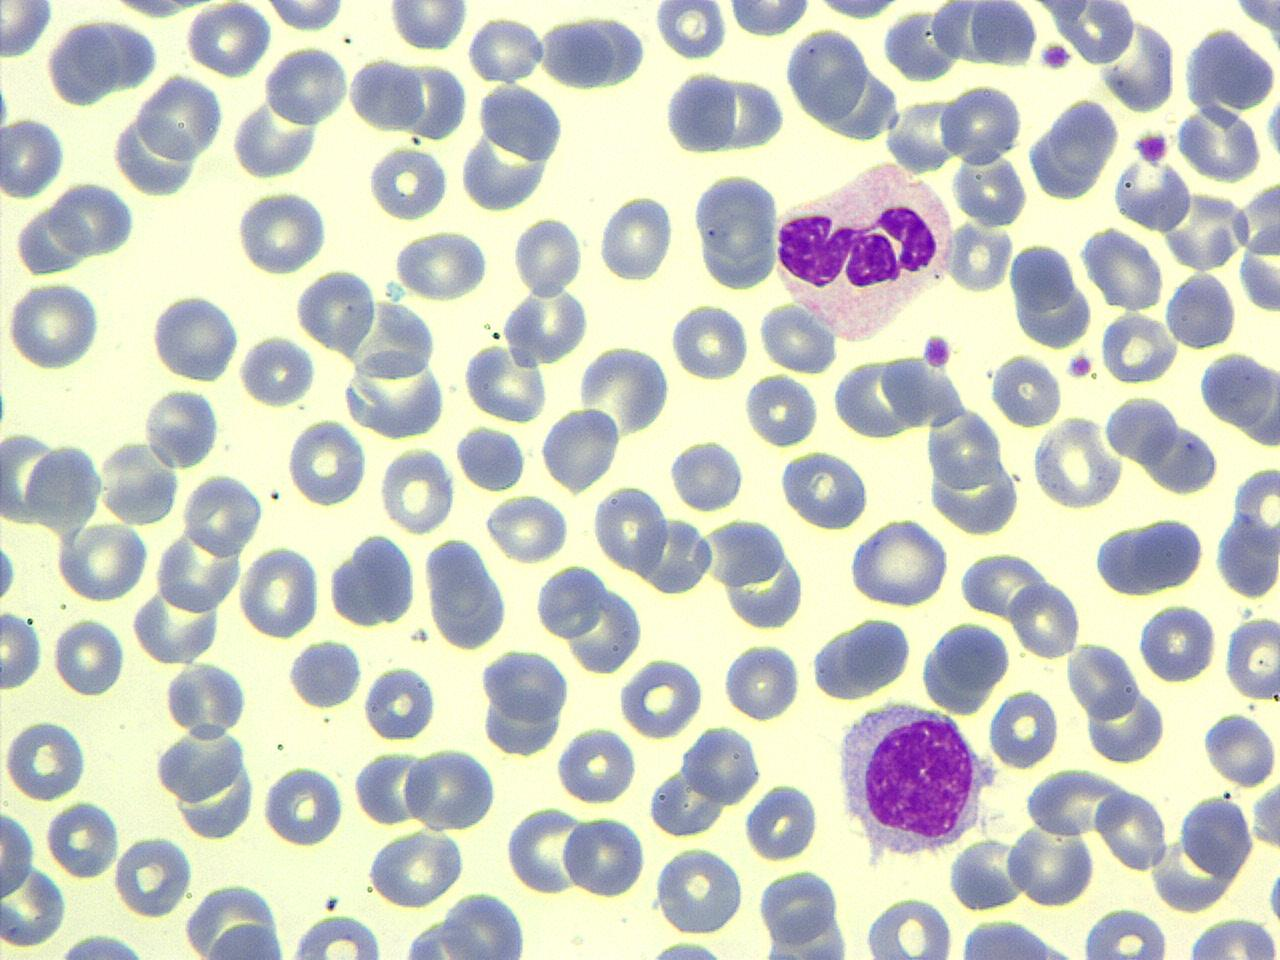Platelets: (1131, 128, 1171, 165), (920, 331, 956, 372), (0, 536, 19, 607), (1038, 41, 1074, 71), (1265, 866, 1280, 931), (1065, 351, 1093, 380)
RBC: (690, 169, 783, 292), (1022, 96, 1119, 202), (847, 516, 952, 610), (343, 347, 445, 440), (4, 278, 103, 372), (575, 344, 674, 436), (783, 24, 870, 128), (1030, 414, 1124, 510), (1006, 239, 1090, 346), (148, 290, 242, 384), (653, 843, 746, 937), (403, 744, 497, 833), (135, 72, 225, 164), (235, 187, 328, 276), (238, 542, 320, 642), (476, 645, 568, 733), (153, 524, 240, 616), (367, 828, 466, 908), (1109, 139, 1193, 233), (502, 281, 592, 368), (1006, 819, 1094, 907), (133, 580, 222, 667), (777, 448, 870, 531), (506, 802, 587, 896), (1101, 16, 1177, 116), (59, 520, 149, 604), (1080, 225, 1166, 312), (562, 812, 647, 900), (287, 417, 368, 509), (2, 716, 88, 802), (181, 470, 265, 558), (295, 266, 378, 354), (592, 481, 670, 574), (597, 192, 675, 285), (264, 43, 350, 127), (260, 762, 344, 848), (1085, 678, 1167, 766), (98, 438, 179, 527), (540, 404, 621, 493), (394, 226, 490, 301), (379, 443, 456, 536), (618, 656, 704, 739), (1176, 103, 1264, 183), (1136, 598, 1216, 686), (110, 834, 193, 918), (462, 341, 546, 423), (939, 82, 1021, 166), (50, 178, 136, 258), (185, 0, 272, 79), (670, 298, 750, 383), (1179, 791, 1255, 880), (664, 68, 738, 158), (684, 724, 764, 807), (366, 142, 449, 222), (722, 639, 800, 723), (142, 386, 220, 470), (952, 147, 1030, 230), (744, 779, 820, 864), (26, 441, 99, 529), (44, 798, 120, 882), (50, 614, 126, 698), (1094, 786, 1168, 872), (512, 212, 585, 299), (882, 3, 962, 82), (557, 725, 636, 805), (885, 94, 962, 176), (166, 660, 249, 736), (353, 746, 429, 828), (1007, 578, 1083, 660), (1201, 706, 1277, 788), (350, 55, 426, 136), (1164, 269, 1238, 352), (861, 894, 954, 960), (485, 491, 570, 563), (988, 686, 1060, 771), (238, 330, 316, 408), (1066, 638, 1140, 720), (1047, 0, 1137, 67), (1215, 508, 1279, 602), (670, 436, 746, 515), (532, 563, 606, 644), (0, 112, 68, 200), (950, 835, 1027, 912), (1103, 392, 1181, 468), (742, 370, 818, 448), (758, 300, 838, 374), (988, 350, 1064, 427), (363, 664, 438, 742), (0, 862, 68, 948), (14, 201, 90, 277), (1099, 310, 1175, 386), (287, 636, 365, 710), (464, 13, 544, 83), (948, 918, 1082, 959), (1231, 463, 1279, 574), (946, 218, 1014, 296), (454, 422, 528, 492), (1079, 904, 1171, 959), (282, 910, 386, 958), (1222, 614, 1280, 700), (654, 0, 730, 63), (1236, 210, 1280, 318), (970, 1, 1038, 70), (386, 0, 469, 53), (1185, 914, 1277, 959), (0, 609, 44, 691), (0, 804, 36, 902), (202, 922, 290, 960), (724, 0, 814, 37), (0, 0, 53, 60), (262, 0, 348, 33)
WBC: (770, 157, 958, 341), (832, 697, 992, 866), (458, 80, 572, 210), (532, 560, 646, 672), (151, 724, 262, 839), (693, 164, 786, 294), (782, 24, 884, 138), (421, 535, 512, 652), (1008, 238, 1094, 354), (808, 612, 916, 704), (1092, 513, 1206, 598), (1025, 93, 1119, 196), (919, 614, 1013, 717), (536, 9, 645, 96), (326, 532, 419, 632), (394, 893, 533, 959), (482, 651, 572, 752), (654, 844, 744, 936), (137, 72, 225, 164), (662, 65, 738, 158), (882, 6, 962, 86), (287, 634, 363, 711), (31, 928, 163, 958)
